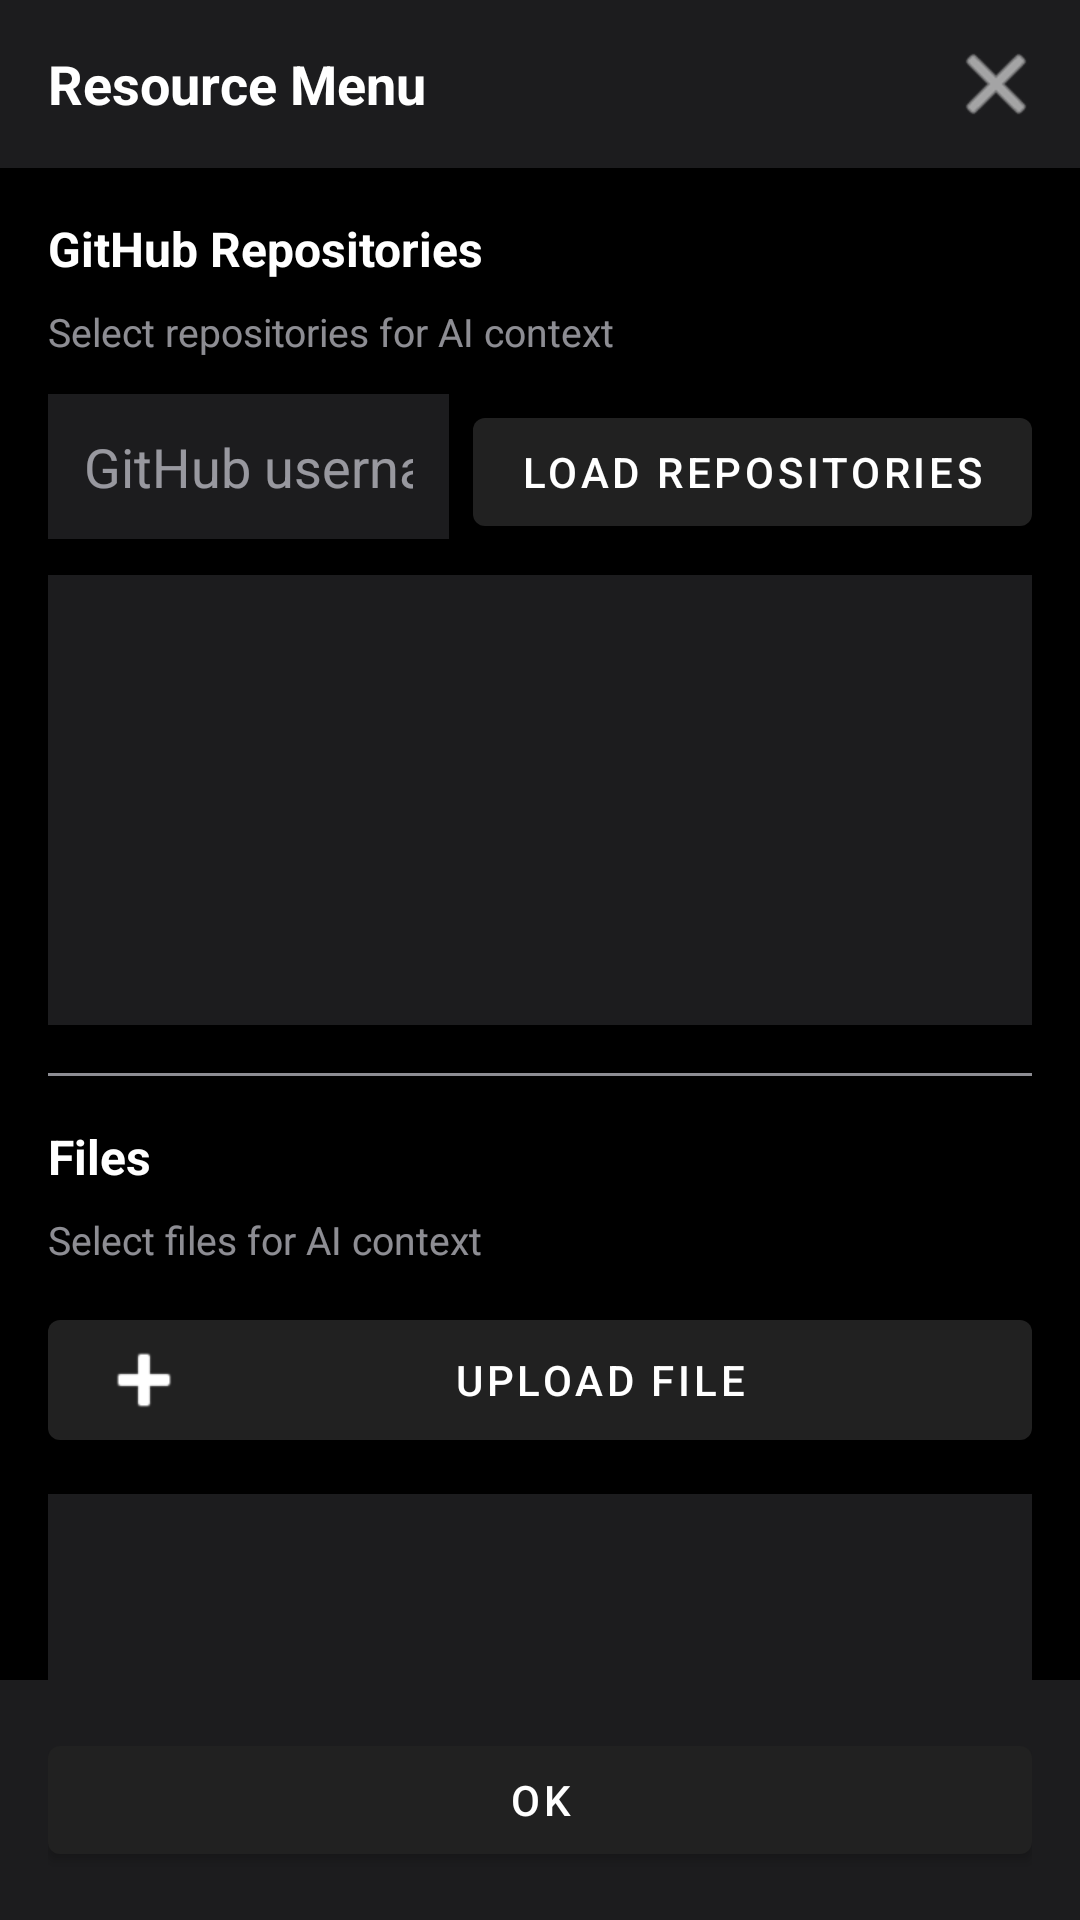

Icons on this 1080 x 1920 Android screen, each with the point to tap as [x,y]:
Close: [996,84]
